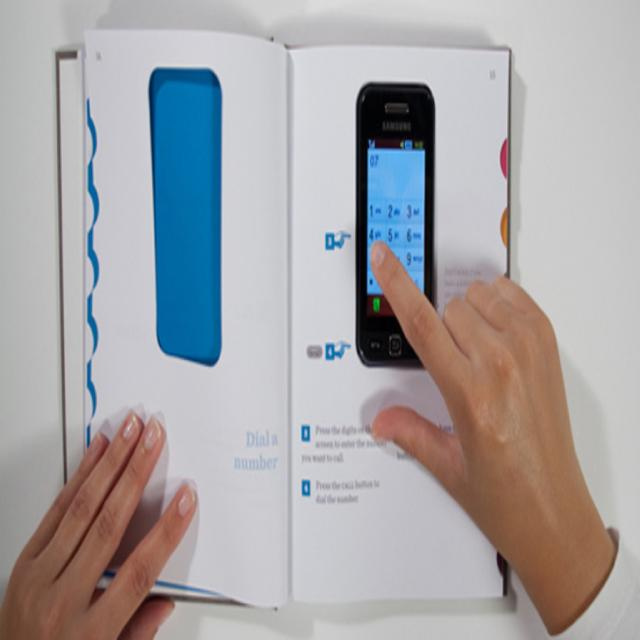Mobile-phone: (355, 73, 441, 380), (149, 69, 222, 371)
